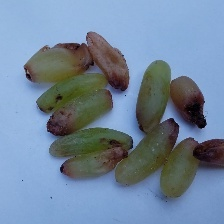grapes: (0, 11, 199, 172)
